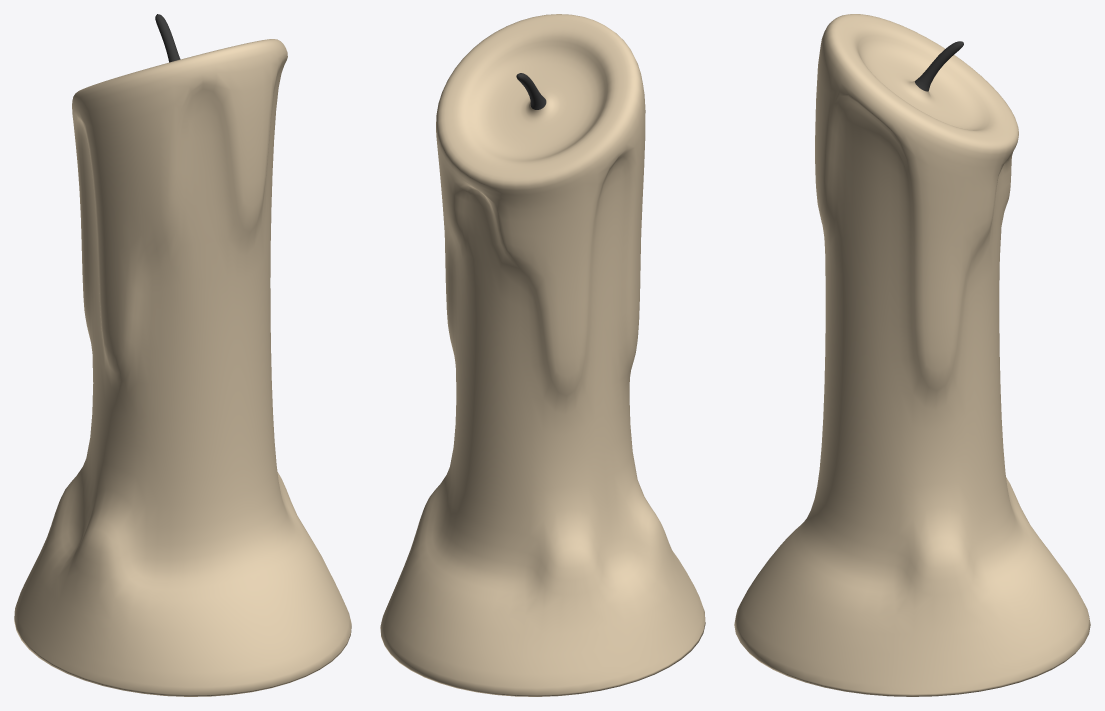
File: candles.fbx
The picture shows the model from 3 angles, left to right: view 1: azimuth 30°, elevation 25°; view 2: azimuth 150°, elevation 25°; view 3: azimuth 270°, elevation 25°; orthographic projection. The views are drawn at different scales.
Parts seen in each view (by area): view 1: Cylinder.001; view 2: Cylinder.001; view 3: Cylinder.001.
Boxes of the visible parts, <box> form: Cylinder.001: <box>14,14,351,696</box>; Cylinder.001: <box>380,14,705,696</box>; Cylinder.001: <box>734,14,1090,696</box>.
Size of the model in its own units: 109 by 218 by 118.
